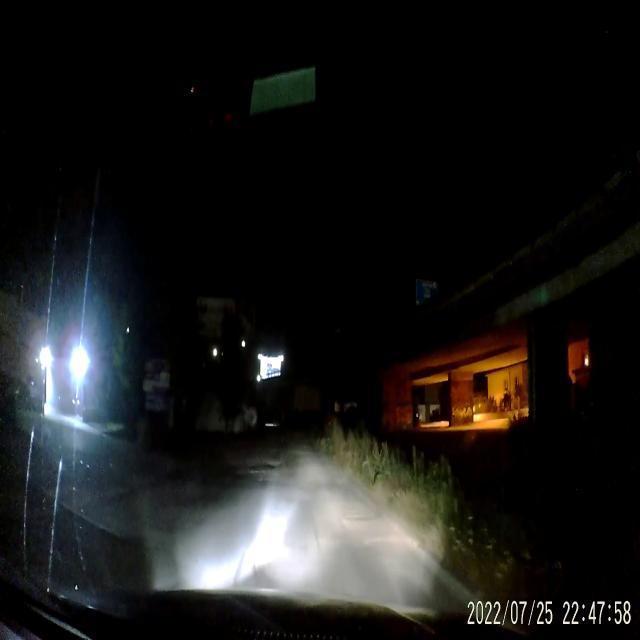Pothole: (243, 460, 280, 480)
